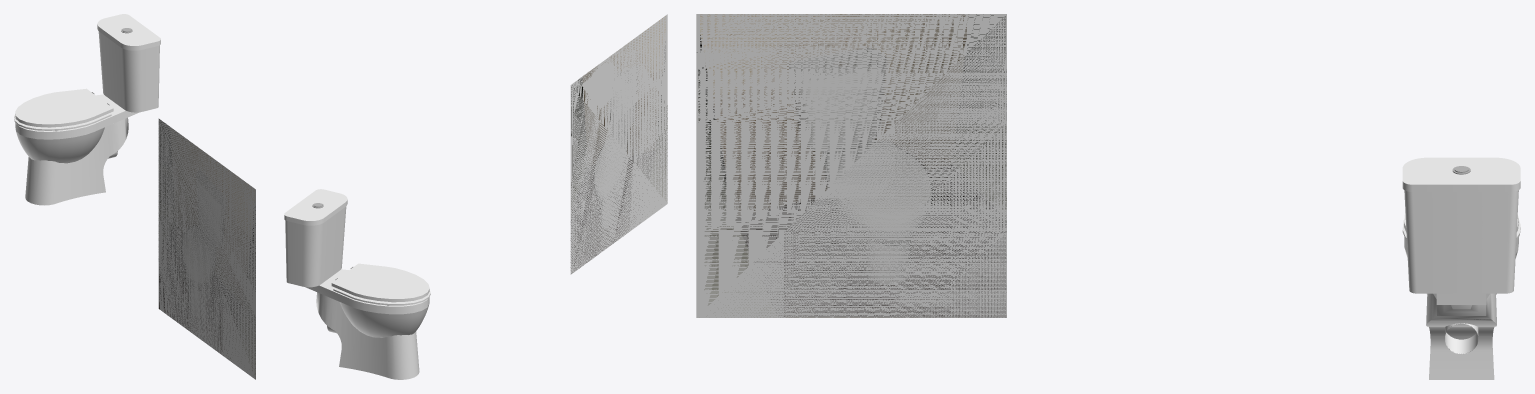
Rendered from toilet.dae.
3 views of the same model, side by side, from view 1: azimuth 30°, elevation 25°; view 2: azimuth 150°, elevation 25°; view 3: azimuth 270°, elevation 25° (orthographic). The views are drawn at different scales.
Visible parts, largest first — view 1: group_0, group_2 (×2), cistern_1 (×3), group_16, group_7; view 2: group_0, group_2 (×2), cistern_1 (×3), group_16, group_7; view 3: group_0, cistern_1 (×3), group_2 (×2).
Boxes of the visible parts, box(x1,y1,x2,y2) form: group_0: box(158, 118, 255, 379); group_2 (×2): box(15, 94, 139, 205); cistern_1 (×3): box(97, 14, 160, 112); group_16: box(15, 88, 113, 127); group_7: box(14, 113, 111, 130); group_0: box(570, 14, 667, 274); group_2 (×2): box(305, 269, 429, 379); cistern_1 (×3): box(284, 189, 347, 287); group_16: box(331, 263, 429, 301); group_7: box(333, 287, 430, 305); group_0: box(696, 14, 1006, 317); cistern_1 (×3): box(1402, 157, 1520, 293); group_2 (×2): box(1404, 237, 1518, 379).
Size of the model in its own units: 27.68 by 96.14 by 39.1.
